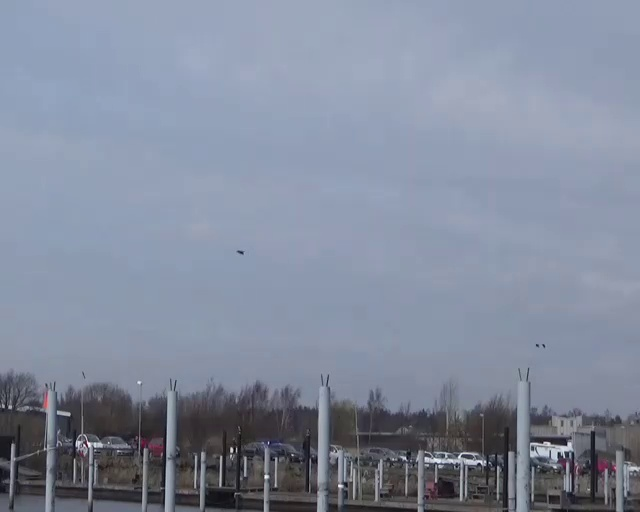BIRD: (236, 249, 245, 255)
